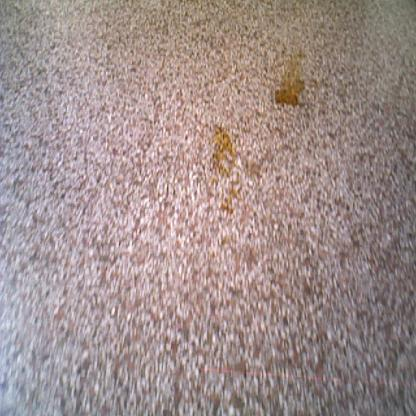liquid: (273, 50, 306, 106), (208, 123, 238, 179), (220, 182, 238, 213)
